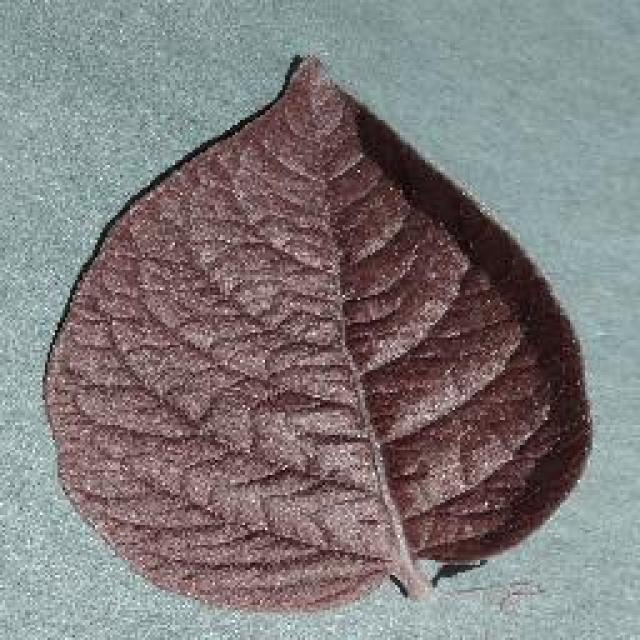Potato___healthy: (36, 51, 596, 616)
